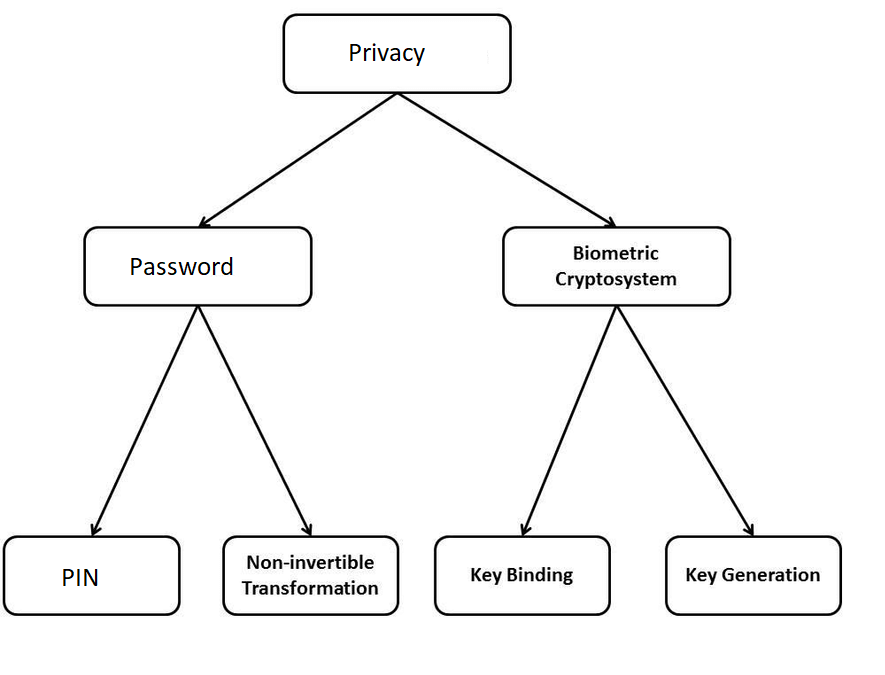arrow: (613, 297, 758, 540), (390, 87, 620, 230), (194, 301, 318, 542), (195, 91, 405, 230), (78, 301, 194, 544), (511, 302, 622, 535)
process: (278, 9, 516, 97), (81, 221, 316, 309), (496, 223, 733, 308), (1, 533, 187, 621), (218, 532, 403, 619), (661, 532, 846, 619), (428, 532, 615, 618)
text: (551, 243, 680, 294), (240, 552, 378, 598), (682, 565, 821, 590), (127, 252, 237, 279), (467, 563, 576, 587), (341, 39, 428, 66), (56, 560, 104, 586)
